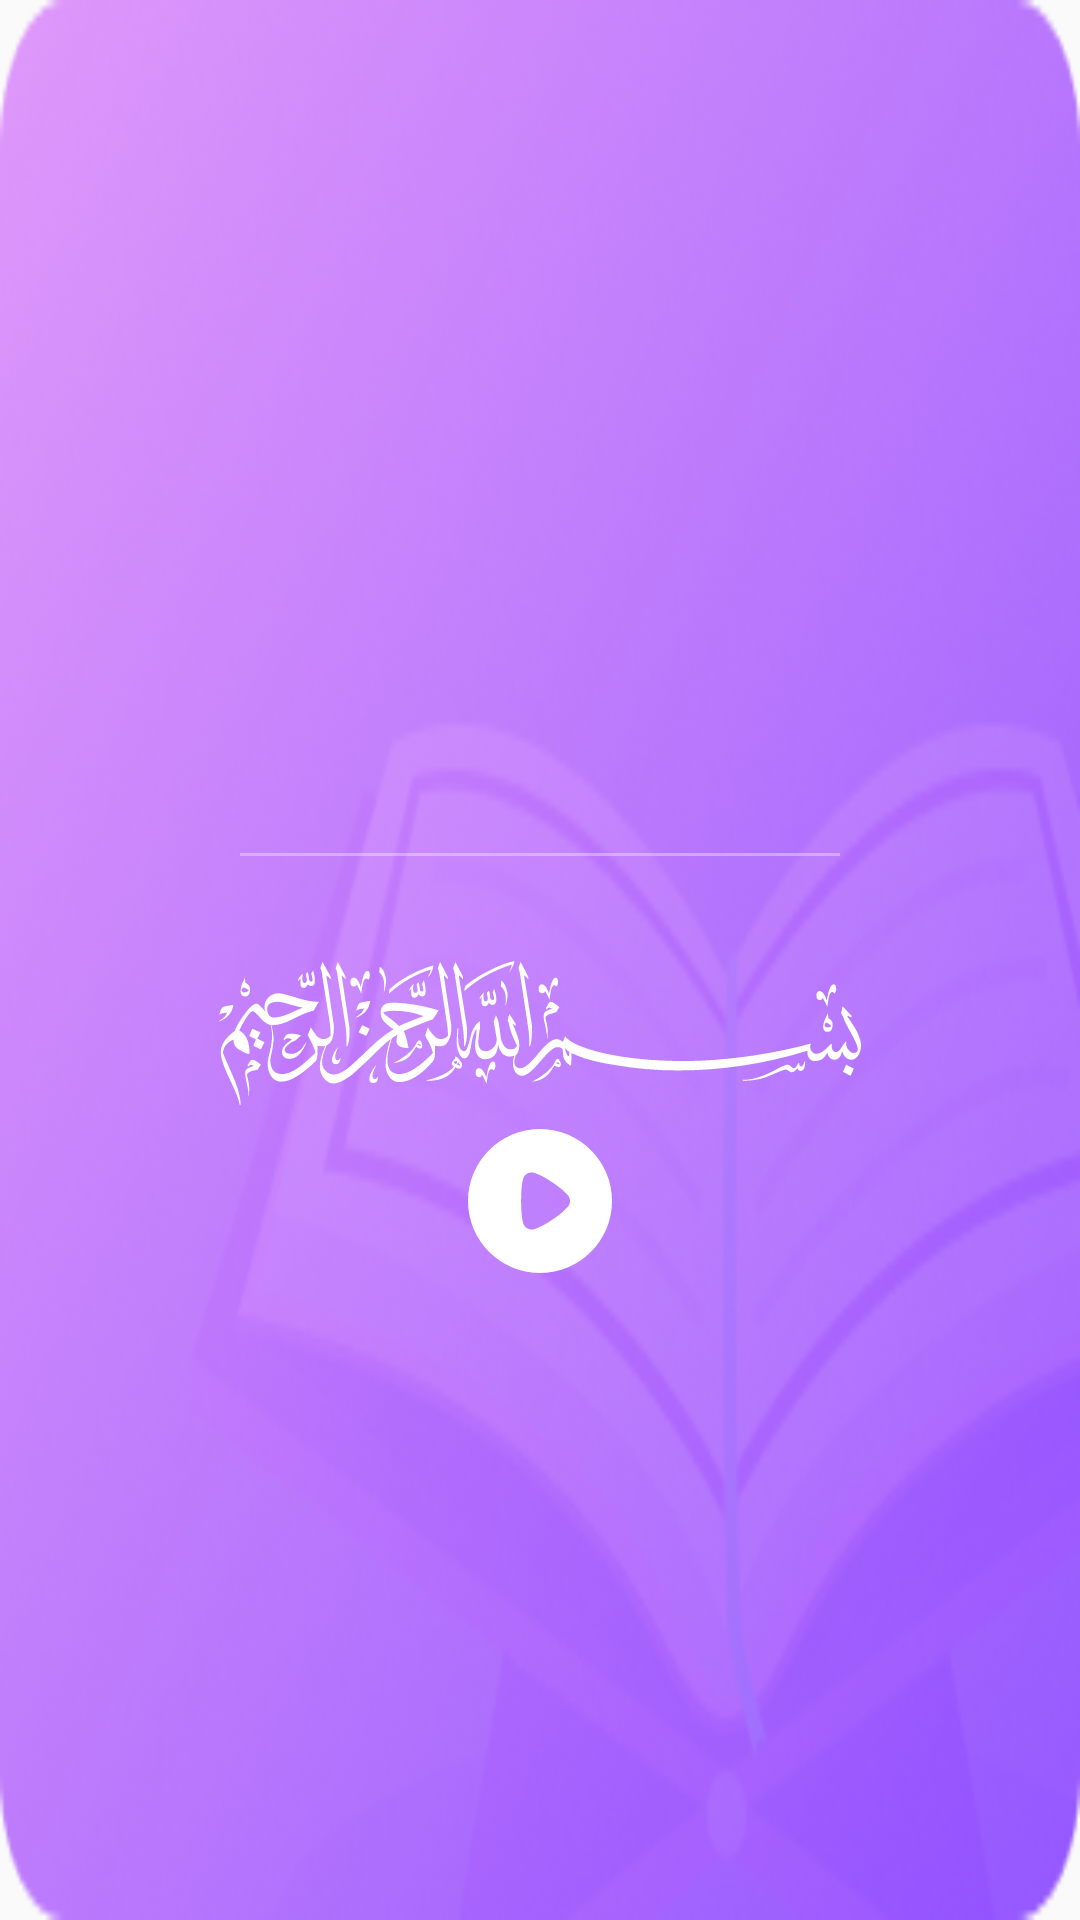

Icon bounding boxes for this 1080×1920 phone screenshot, format (x1, y1, x2, y2):
play: (468, 1129, 612, 1273)
